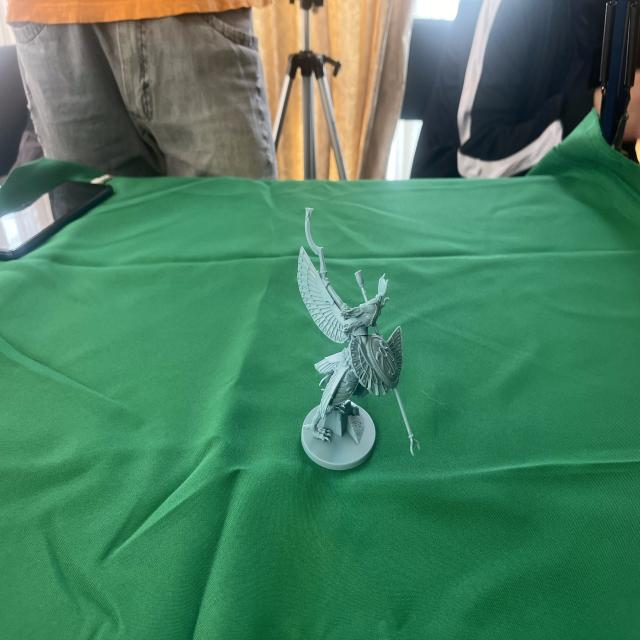isis: (286, 191, 428, 495)
